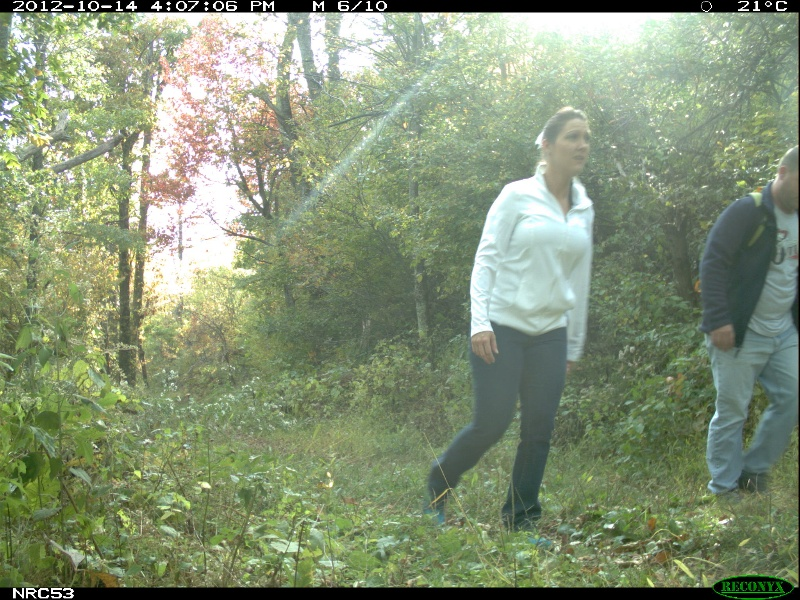human: (414, 104, 605, 545), (694, 147, 800, 511)
human face: (547, 118, 594, 180), (777, 161, 800, 206)
human legs: (426, 319, 582, 539), (701, 321, 800, 499)
